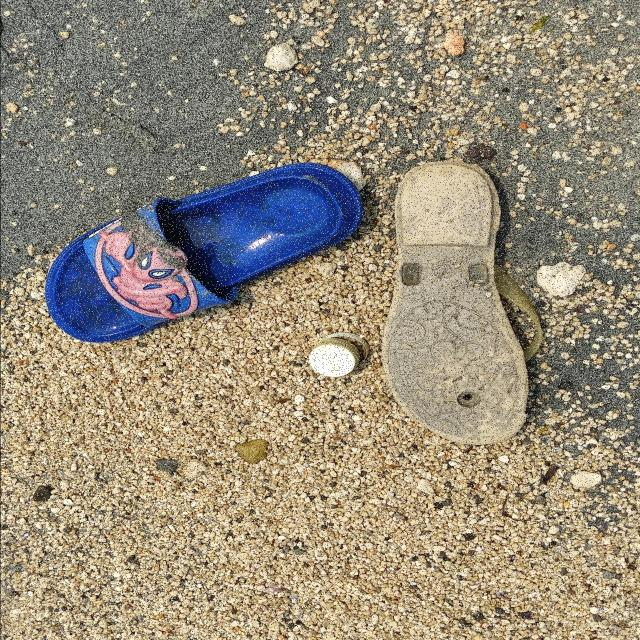plastic_waste: (308, 338, 364, 381)
rubber_waste: (49, 167, 369, 348), (378, 159, 542, 444)
